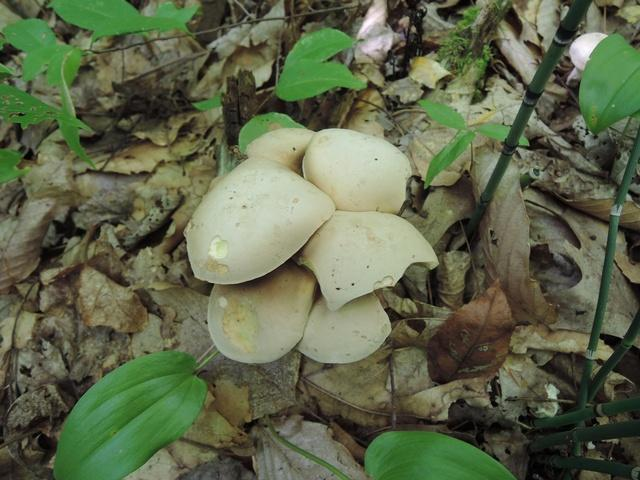Edible Mushroom: (182, 124, 439, 365)
